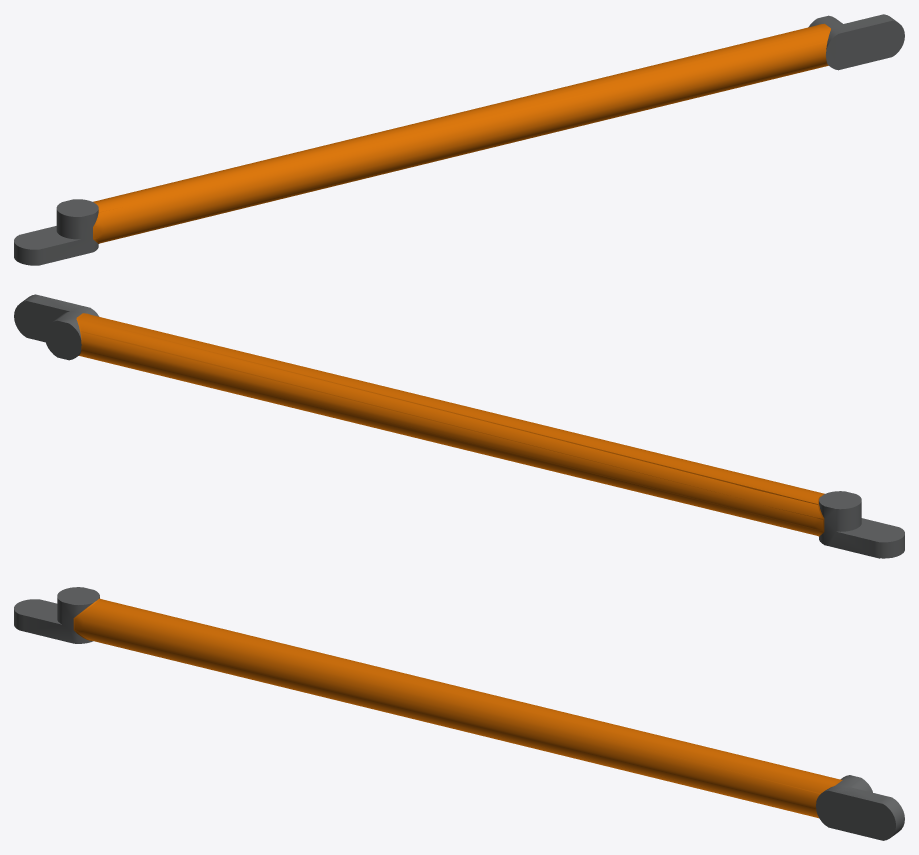
The picture shows the model from 3 angles, top to bottom: view 1: azimuth 30°, elevation 25°; view 2: azimuth 150°, elevation 25°; view 3: azimuth 330°, elevation 25°; orthographic projection.
Parts seen in each view (by area): view 1: i4_LOD0, i4_col; view 2: i4_LOD0, i4_col; view 3: i4_LOD0, i4_col.
Boxes of the visible parts, x1=… form: i4_LOD0: x1=14, y1=14, x2=904, y2=265; i4_col: x1=94, y1=14, x2=904, y2=241; i4_LOD0: x1=14, y1=294, x2=904, y2=558; i4_col: x1=14, y1=294, x2=892, y2=558; i4_LOD0: x1=14, y1=587, x2=904, y2=840; i4_col: x1=74, y1=600, x2=895, y2=840.
Size of what is drawn, in the model's own units: 288 by 12.04 by 12.
